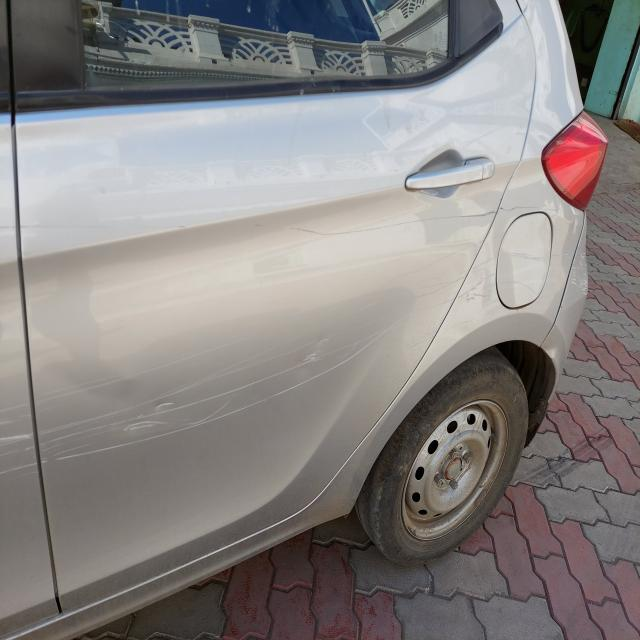damage: (39, 326, 372, 461), (269, 205, 495, 242), (465, 263, 541, 325), (0, 397, 37, 495), (568, 251, 591, 295)
